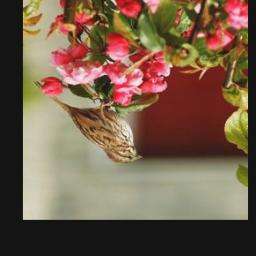Sparrow: (30, 78, 144, 167)
